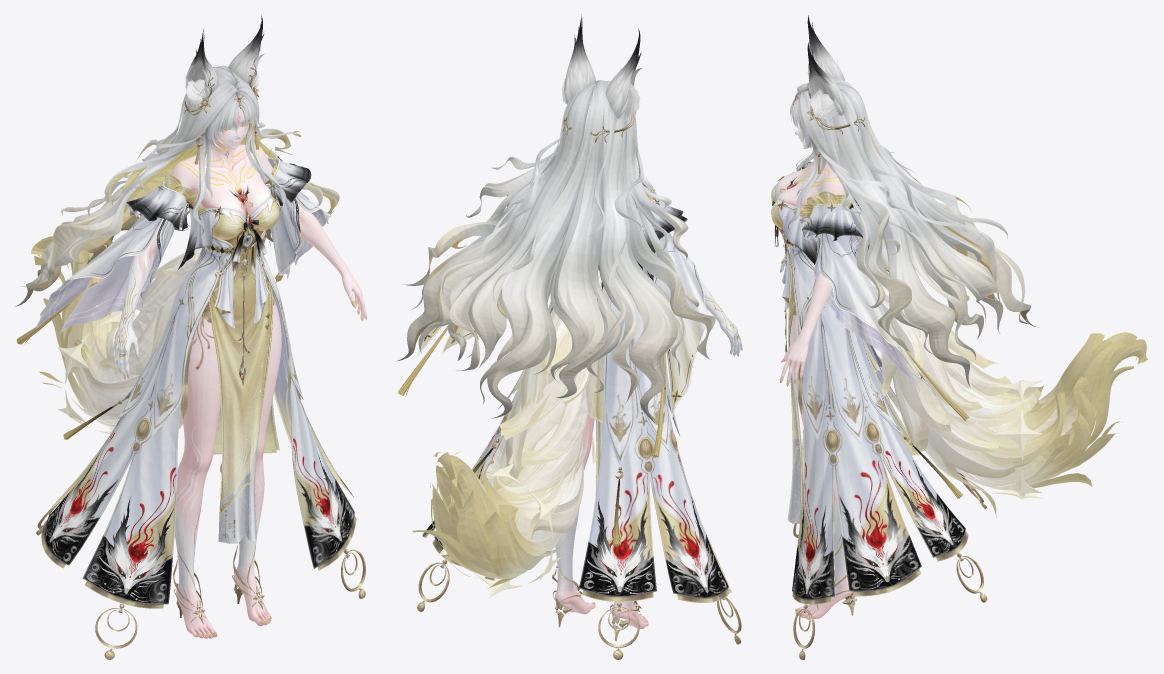
File: xin-yuehu.glb
The picture shows the model from 3 angles, left to right: view 1: azimuth 30°, elevation 25°; view 2: azimuth 150°, elevation 25°; view 3: azimuth 270°, elevation 25°; orthographic projection. The views are drawn at different scales.
Parts seen in each view (by area): view 1: R2T1ShenXinMd10011_LOD0_static; view 2: R2T1ShenXinMd10011_LOD0_static; view 3: R2T1ShenXinMd10011_LOD0_static.
Boxes of the visible parts, <box> form: R2T1ShenXinMd10011_LOD0_static: <box>15,15,366,659</box>; R2T1ShenXinMd10011_LOD0_static: <box>396,14,742,659</box>; R2T1ShenXinMd10011_LOD0_static: <box>771,15,1147,659</box>.
Size of the model in its own units: 0.9518 by 1.74 by 1.04.
Materials: 9 (9 with a texture image).
